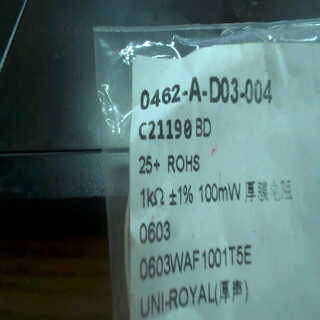1kR: (132, 182, 167, 212)
